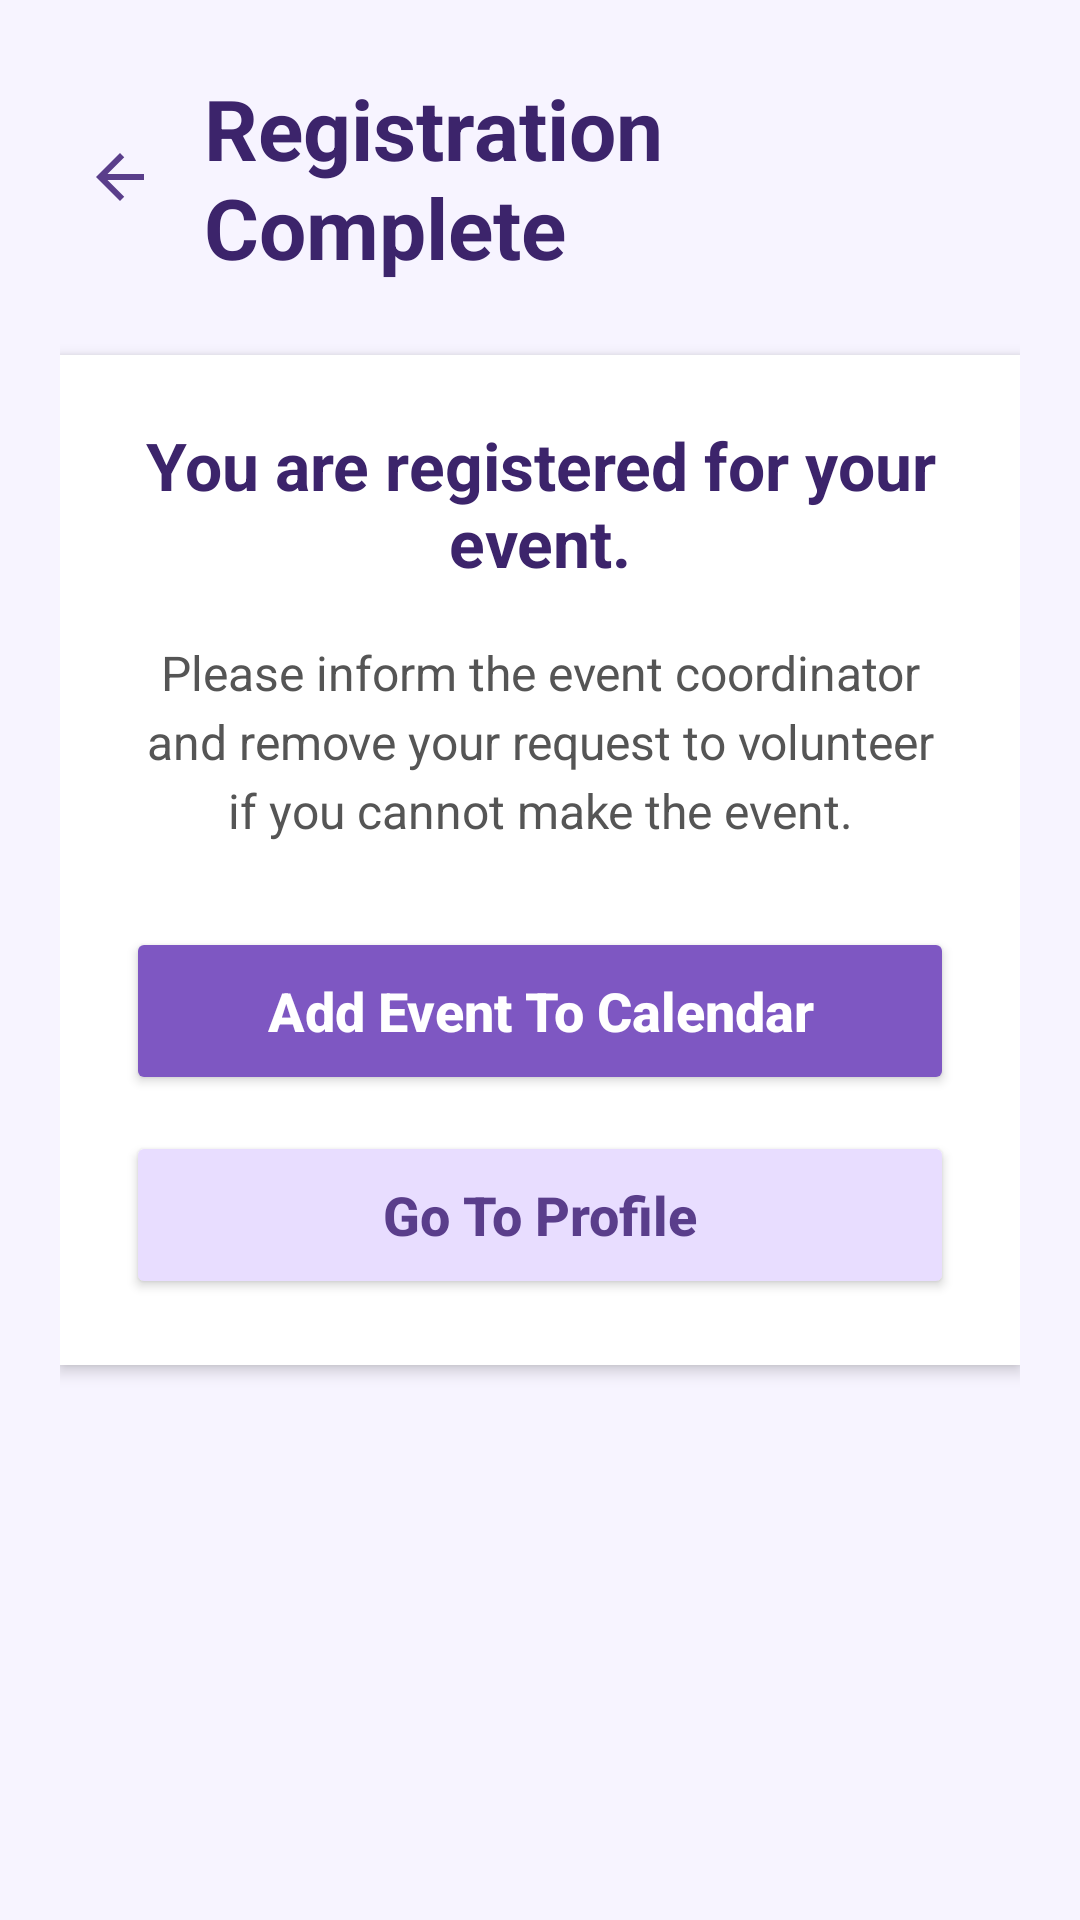

Screen size 1080*1920. Icon name, then its center in pixels as point (x, y):
Back: point (120, 177)
